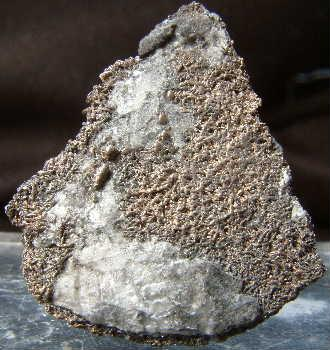silver: (121, 48, 324, 314), (5, 56, 142, 302), (44, 306, 251, 348)
